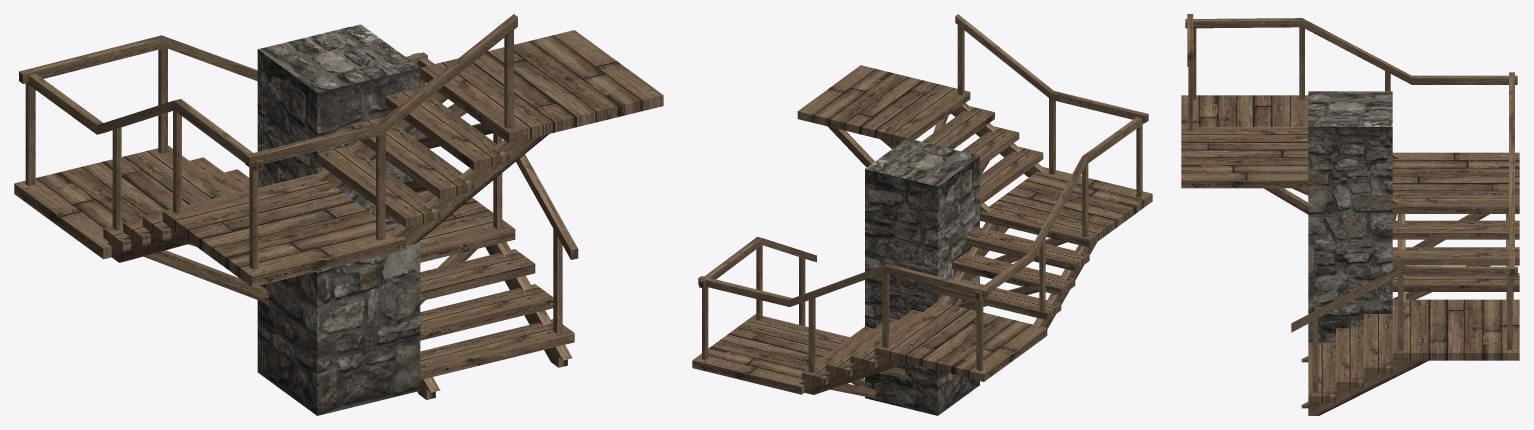
The model's file is spiralStaircaseBCC.dae.
The picture shows the model from 3 angles, left to right: view 1: azimuth 30°, elevation 25°; view 2: azimuth 150°, elevation 25°; view 3: azimuth 270°, elevation 25°; orthographic projection. The views are drawn at different scales.
Visible parts, largest first — view 1: Staircase, Column; view 2: Staircase, Column; view 3: Staircase, Column.
Boxes of the visible parts, x1=… form: Staircase: x1=14, y1=14, x2=663, y2=399; Column: x1=257, y1=24, x2=420, y2=415; Staircase: x1=692, y1=14, x2=1152, y2=398; Column: x1=865, y1=138, x2=979, y2=415; Staircase: x1=1181, y1=14, x2=1519, y2=415; Column: x1=1308, y1=91, x2=1392, y2=342.
Bounding box in the file's own units: 4 × 4.12 × 4.
Materials: 2 (2 with a texture image).
